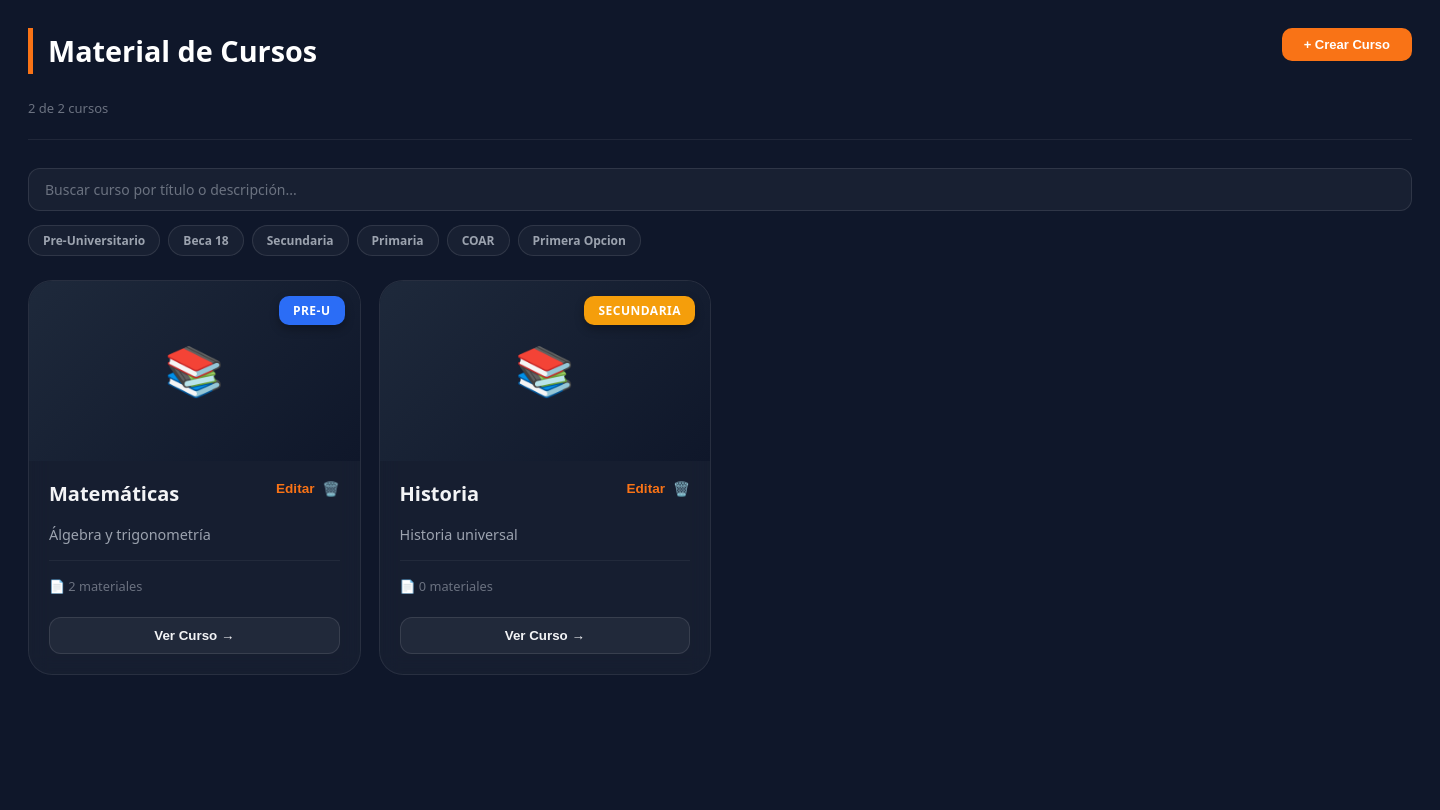
CourseModule › filtra el catálogo por modalidad
Expected: the heading "Matemáticas" is shown, x1=49 y1=481 x2=179 y2=507
Click the button "Secundaria": (300, 240) x1=252 y1=225 x2=348 y2=256
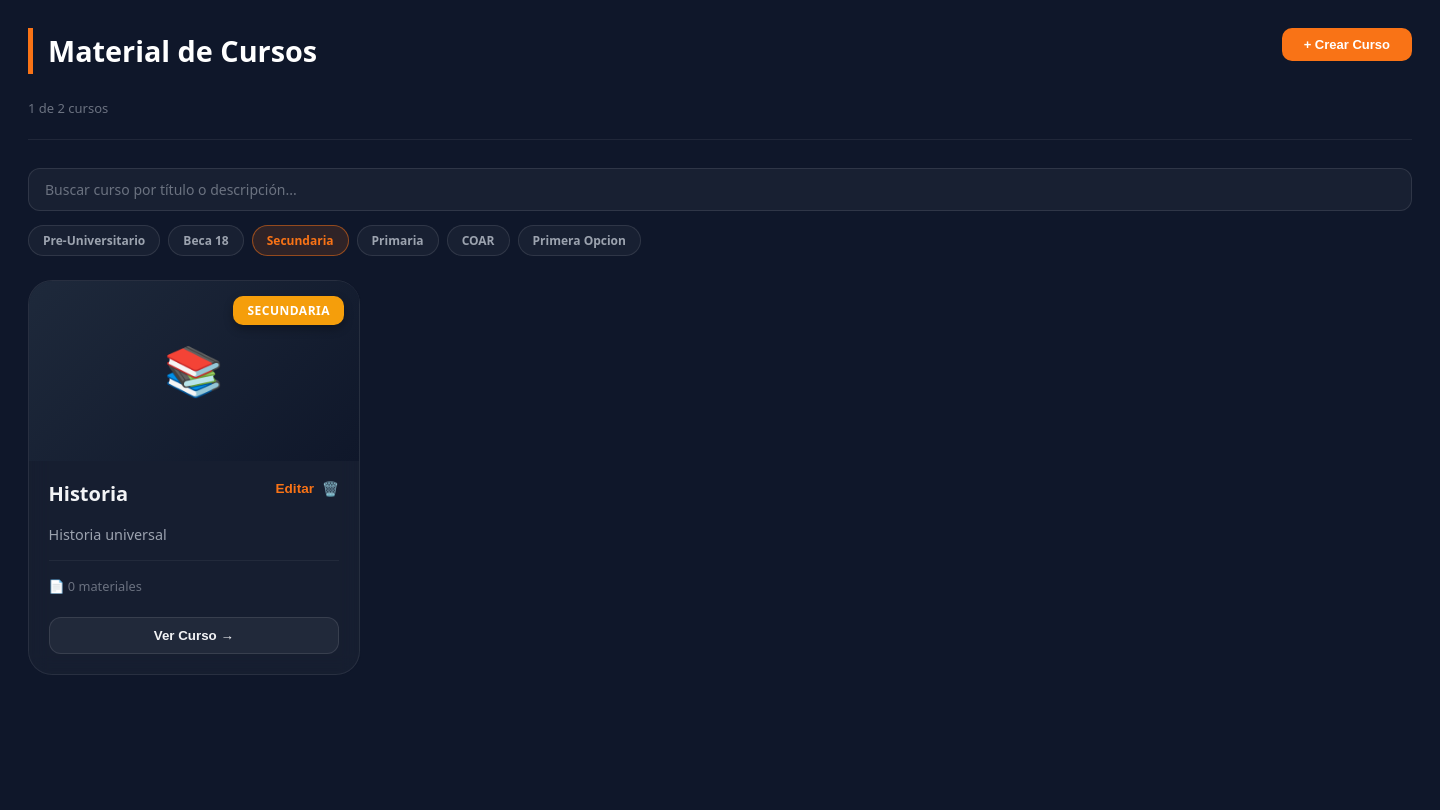
Expected: the heading "Historia" is shown, x1=49 y1=481 x2=129 y2=507
Now the heading "Matemáticas" is gone
